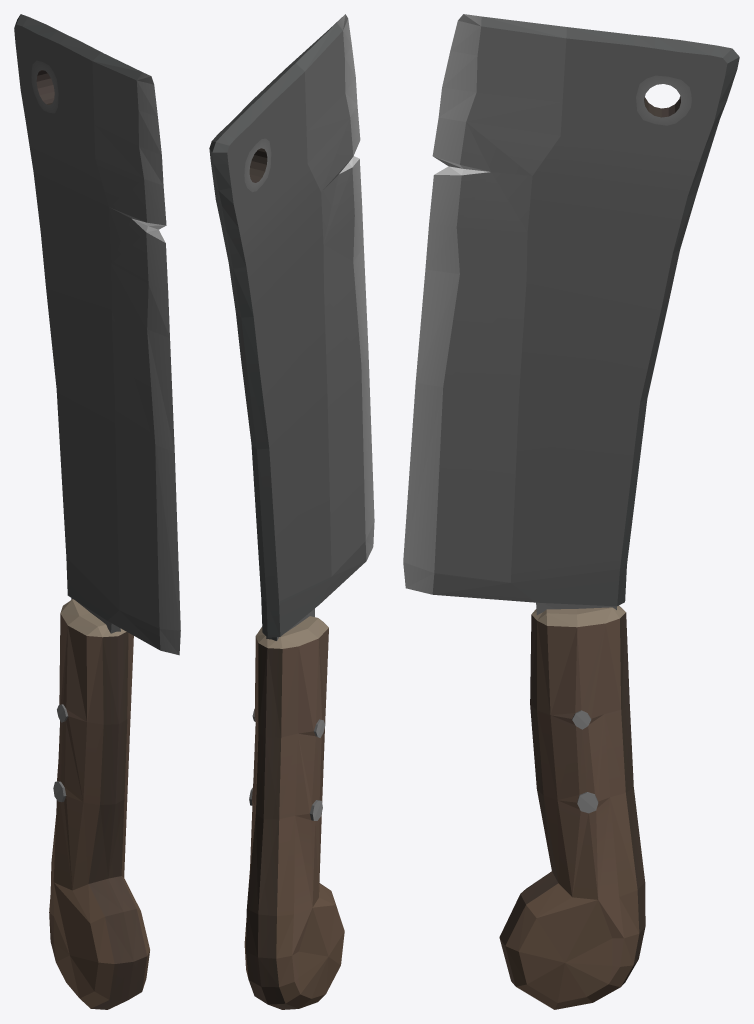
File: bladedHeavyButcherCleaver.glb
The picture shows the model from 3 angles, left to right: view 1: azimuth 30°, elevation 25°; view 2: azimuth 150°, elevation 25°; view 3: azimuth 270°, elevation 25°; orthographic projection. The views are drawn at different scales.
Parts seen in each view (by area): view 1: bladedHeavyButcherCleaver; view 2: bladedHeavyButcherCleaver; view 3: bladedHeavyButcherCleaver.
Boxes of the visible parts, left/top/right/bottom form: bladedHeavyButcherCleaver: left=14, top=14, right=180, bottom=1009; bladedHeavyButcherCleaver: left=209, top=14, right=374, bottom=1009; bladedHeavyButcherCleaver: left=403, top=14, right=739, bottom=1009.
Size of the model in its own units: 0.0497 by 0.7129 by 0.2191.
